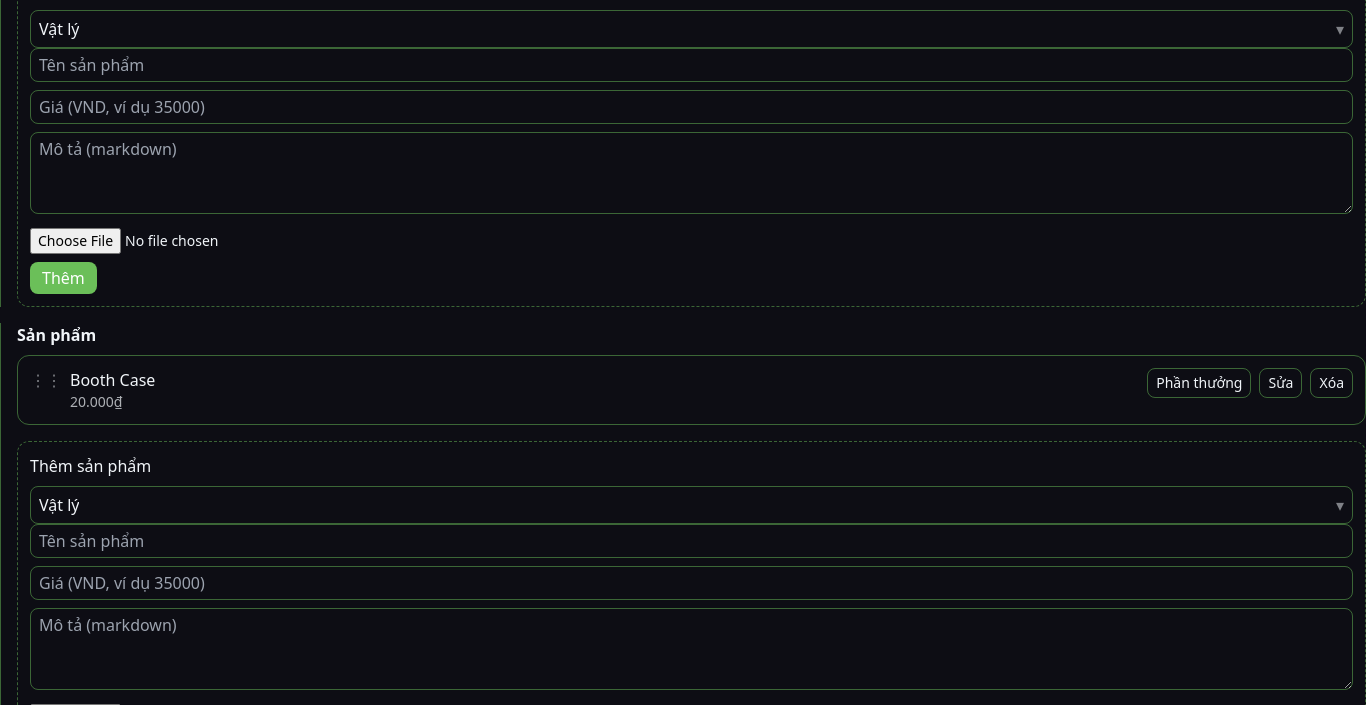
Test: AdminProducts - gacha products › pre-checks the checkbox when editing an existing booth-only product
(page scrolled)
What coordinates should you click on to do the following:
click the button "Sửa"
I would click on:
 (1281, 383)
Its box is [1260,368,1302,398].
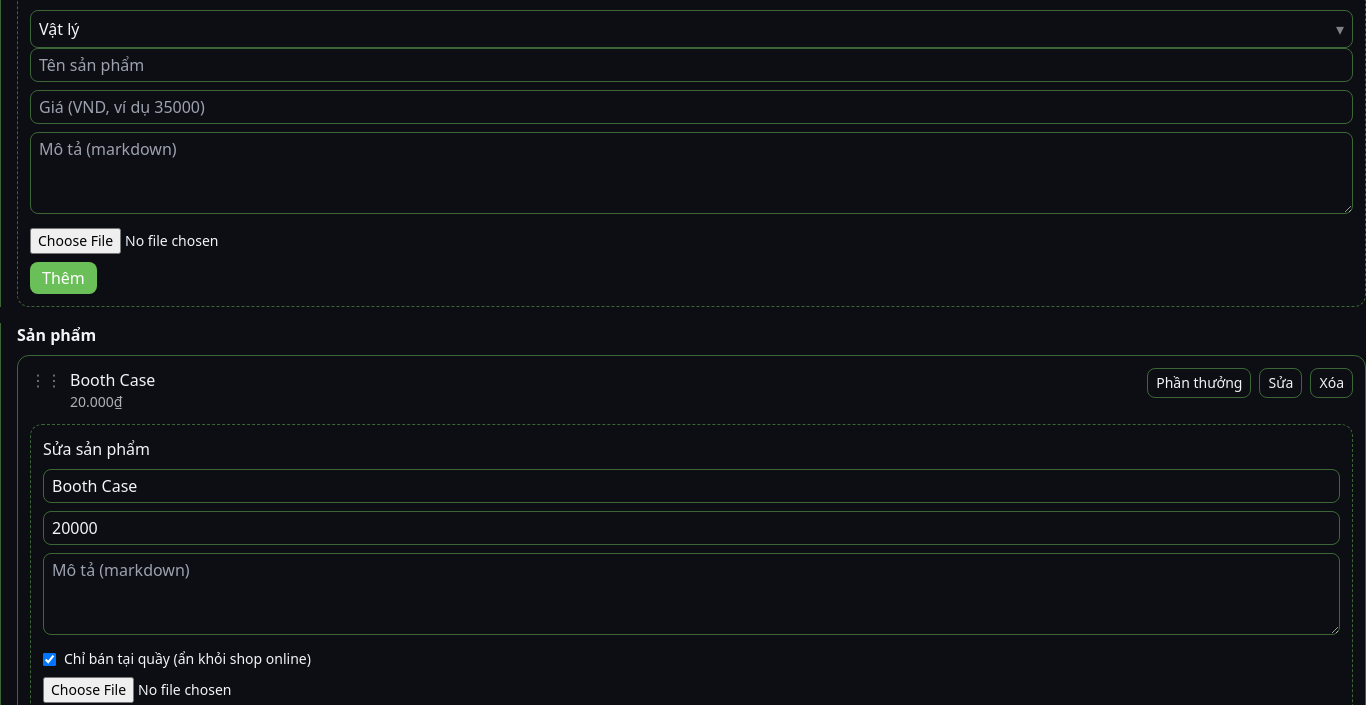
Result: the checkbox labelled "Chỉ bán tại quầy (ẩn khỏi shop online)" is checked at [43,652,56,666]
